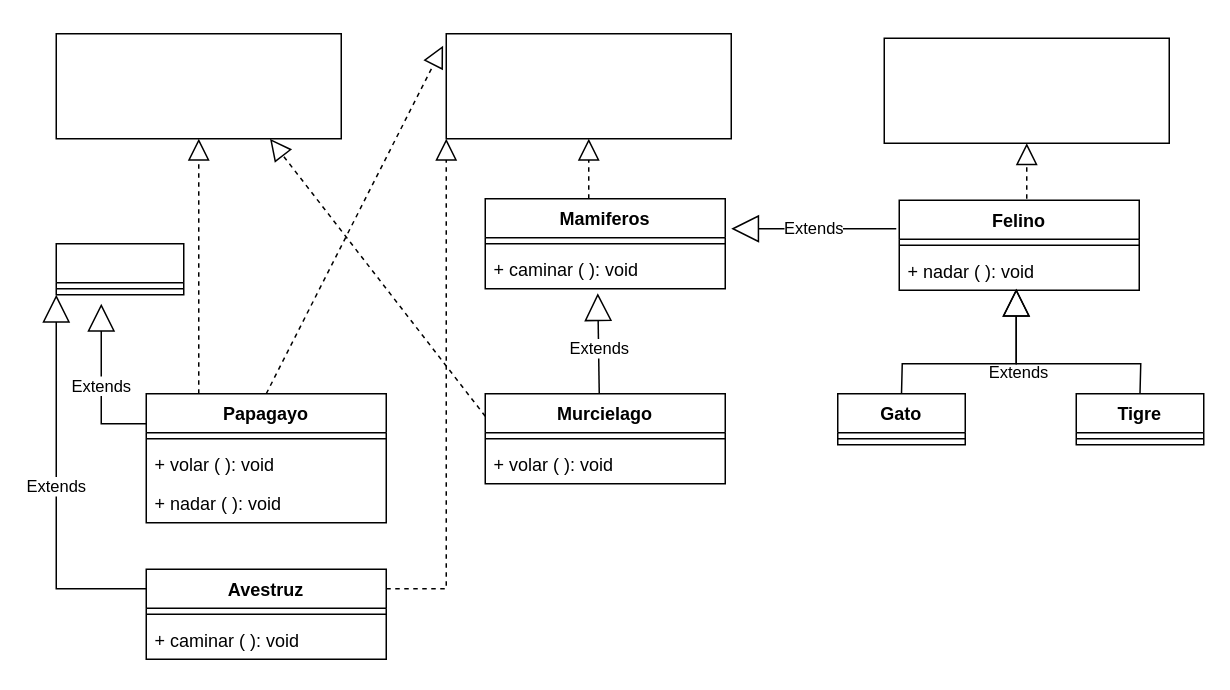
Some shapes in this 1230 by 690 pixel diagram are drawn without their labels. The shapes that lost their labels are listed below. From the top down, each one's centre as x and y in pixels, then its label:
At point 198,85: "<<Interface>> IPuedeVolar + caminar ( ) ; : void".
At point 588,85: "<<Interface>> IPuedeCaminar + caminar ( ) ; : void".
At point 1026,90: "<<Interface>> IPuedeNadar + nadar( ) ; : void".
At point 119,268: "Aves".
